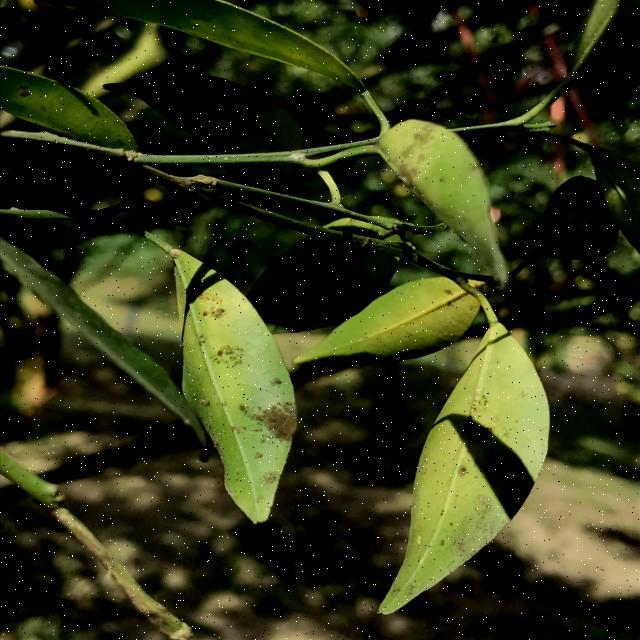canker: (382, 377, 558, 578), (172, 273, 299, 485), (381, 120, 500, 226), (4, 74, 116, 137)
